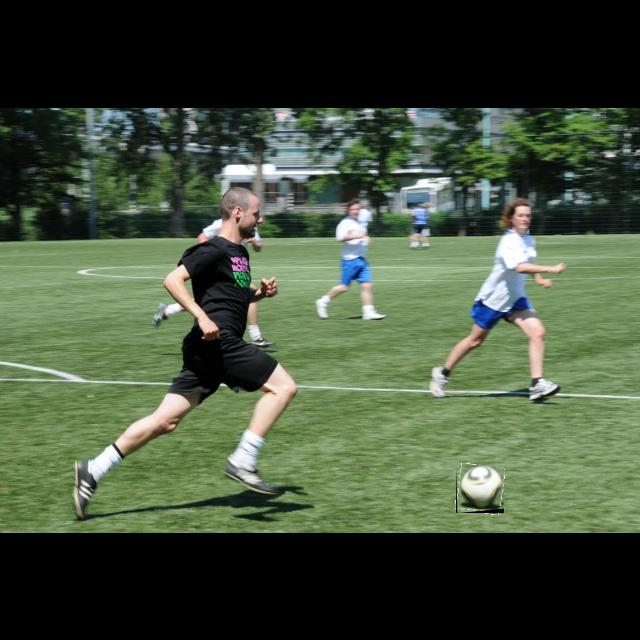Football: (456, 465, 504, 513)
